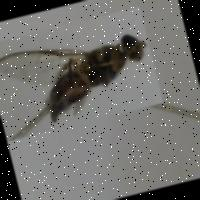Oriental-fruit-fly: (0, 6, 163, 141)
